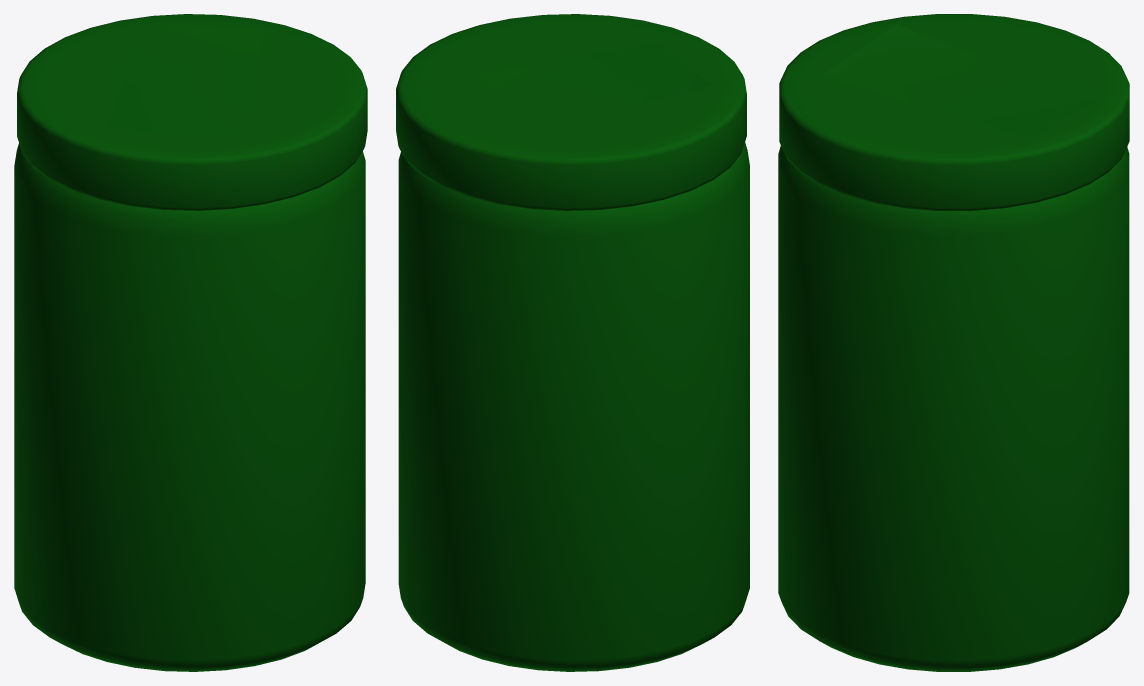
Rendered from JarFullOfEyes.fbx.
3 renders of one model, left to right at view 1: azimuth 30°, elevation 25°; view 2: azimuth 150°, elevation 25°; view 3: azimuth 270°, elevation 25°, orthographic.
Visible parts, largest first — view 1: Sloik01_LP; view 2: Sloik01_LP; view 3: Sloik01_LP.
Boxes of the visible parts, x1=… form: Sloik01_LP: x1=14, y1=14, x2=367, y2=671; Sloik01_LP: x1=396, y1=14, x2=749, y2=671; Sloik01_LP: x1=778, y1=14, x2=1129, y2=671.
Bounding box in the file's own units: 20.05 × 33.06 × 19.92.
